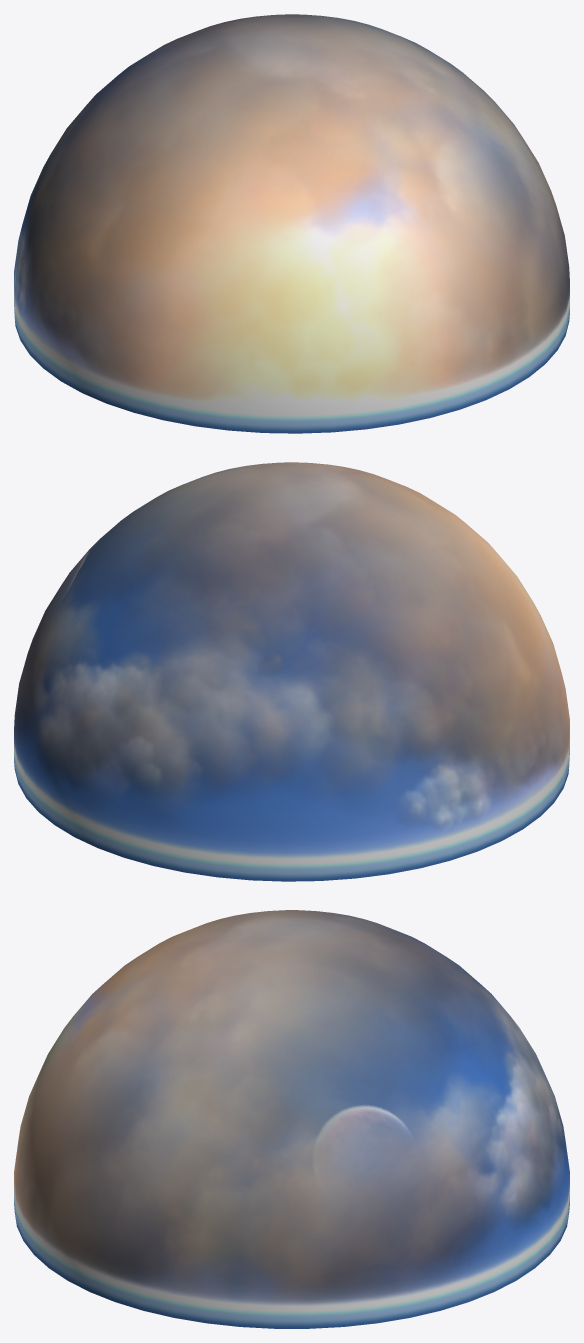
File: Skyball_WithoutCap.FBX
3 renders of one model, top to bottom at view 1: azimuth 30°, elevation 25°; view 2: azimuth 150°, elevation 25°; view 3: azimuth 270°, elevation 25°, orthographic.
Visible parts, largest first — view 1: Sphere002; view 2: Sphere002; view 3: Sphere002.
Part boxes in pixels (bbox=[...]): Sphere002: bbox=[14, 14, 569, 433]; Sphere002: bbox=[14, 462, 569, 881]; Sphere002: bbox=[14, 910, 569, 1328].
Size of the model in its own units: 1321 by 726 by 1324.
